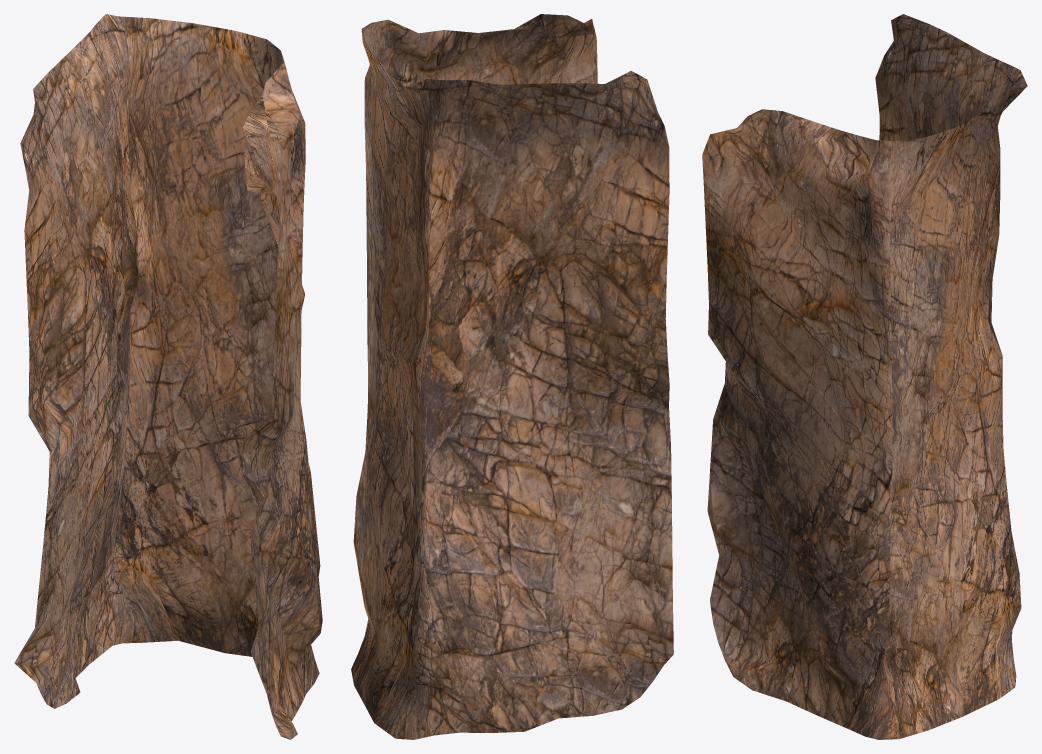
The model's file is ParedExtra1.fbx.
The picture shows the model from 3 angles, left to right: view 1: azimuth 30°, elevation 25°; view 2: azimuth 150°, elevation 25°; view 3: azimuth 270°, elevation 25°; orthographic projection. The views are drawn at different scales.
Visible parts, largest first — view 1: ParedObstaculo2; view 2: ParedObstaculo2; view 3: ParedObstaculo2.
Boxes of the visible parts, left/top/right/bottom form: ParedObstaculo2: left=14, top=14, right=322, bottom=739; ParedObstaculo2: left=351, top=14, right=673, bottom=739; ParedObstaculo2: left=702, top=14, right=1027, bottom=739.
Bounding box in the file's own units: 8.04 × 16.32 × 7.91.
